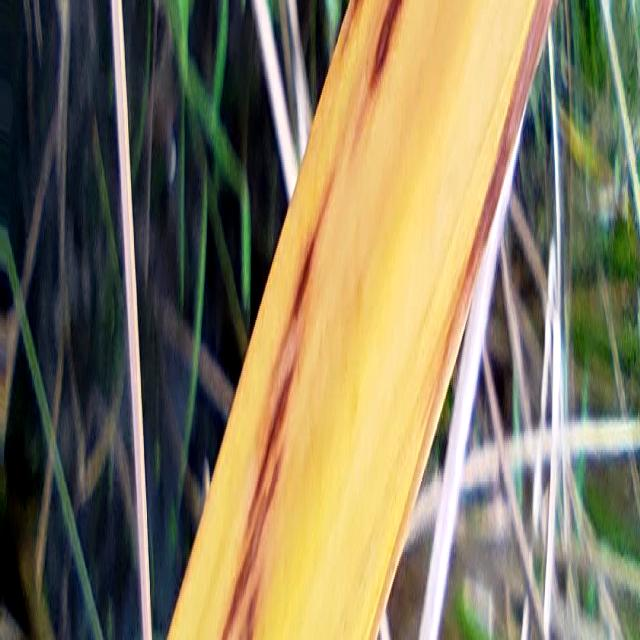NBS: (223, 445, 283, 640), (243, 354, 297, 547), (278, 178, 332, 366), (371, 0, 400, 90), (247, 622, 253, 640)
